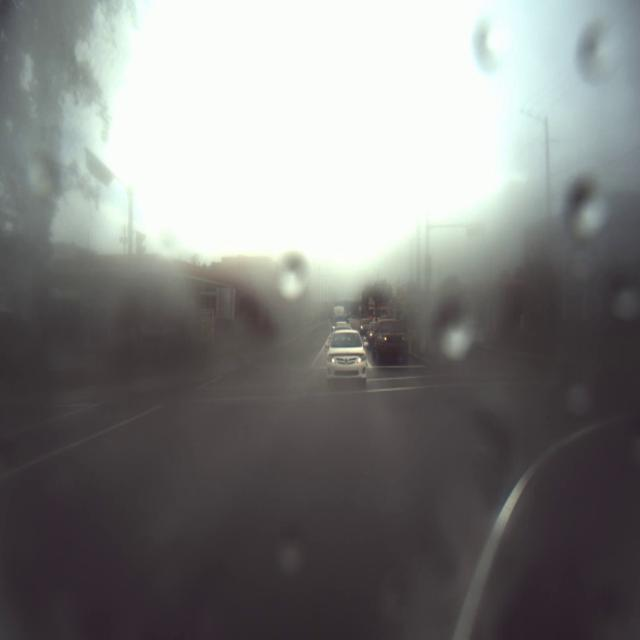car: (326, 328, 374, 391)
